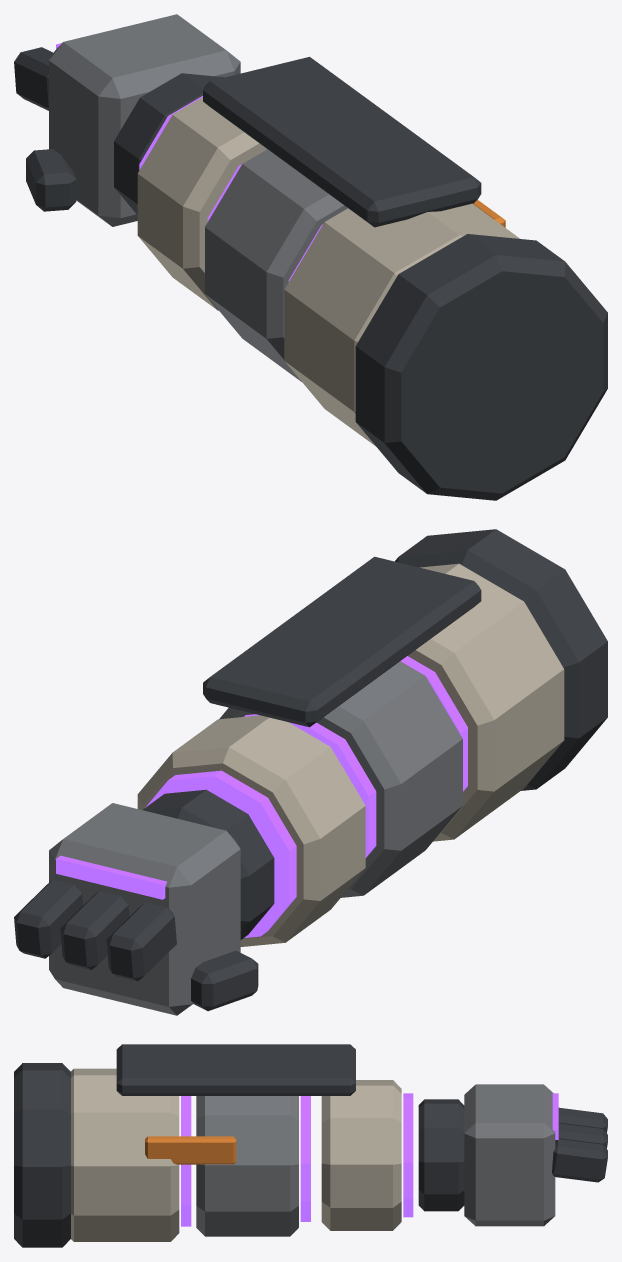
The model's file is TC_PLAYER_MechanicalArm_V1.glb.
The picture shows the model from 3 angles, top to bottom: view 1: azimuth 30°, elevation 25°; view 2: azimuth 150°, elevation 25°; view 3: azimuth 270°, elevation 25°; orthographic projection. The views are drawn at different scales.
Visible parts, largest first — view 1: TC_Arm_Elbow, TC_Arm_TopPlate, TC_Arm_Segment_0, TC_Arm_Palm, TC_Arm_Segment_1, TC_Arm_Segment_2, TC_Arm_Wrist, TC_Arm_Thumb, TC_Arm_Finger_0; view 2: TC_Arm_TopPlate, TC_Arm_Palm, TC_Arm_Segment_0, TC_Arm_Segment_2, TC_Arm_Segment_1, TC_Arm_Elbow, TC_Arm_Wrist, TC_Arm_Seam_2, TC_Arm_Finger_0, TC_Arm_Finger_2, TC_Arm_Finger_1, TC_Arm_Thumb (+3 smaller); view 3: TC_Arm_Segment_0, TC_Arm_Segment_1, TC_Arm_Palm, TC_Arm_TopPlate, TC_Arm_Segment_2, TC_Arm_Elbow, TC_Arm_Wrist, TC_Arm_StripePlate, TC_Arm_Finger_2, TC_Arm_Seam_1, TC_Arm_Seam_2, TC_Arm_Seam_0 (+3 smaller).
Boxes of the visible parts, x1=… form: TC_Arm_Elbow: x1=355, y1=234, x2=607, y2=500; TC_Arm_TopPlate: x1=203, y1=56, x2=481, y2=227; TC_Arm_Segment_0: x1=284, y1=203, x2=519, y2=446; TC_Arm_Palm: x1=49, y1=14, x2=240, y2=226; TC_Arm_Segment_1: x1=205, y1=149, x2=347, y2=381; TC_Arm_Segment_2: x1=137, y1=97, x2=266, y2=310; TC_Arm_Wrist: x1=114, y1=73, x2=223, y2=214; TC_Arm_Thumb: x1=26, y1=149, x2=76, y2=211; TC_Arm_Finger_0: x1=14, y1=47, x2=53, y2=110; TC_Arm_TopPlate: x1=203, y1=556, x2=481, y2=727; TC_Arm_Palm: x1=49, y1=803, x2=240, y2=1015; TC_Arm_Segment_0: x1=408, y1=563, x2=564, y2=841; TC_Arm_Segment_2: x1=137, y1=715, x2=365, y2=946; TC_Arm_Segment_1: x1=219, y1=661, x2=462, y2=897; TC_Arm_Elbow: x1=395, y1=529, x2=607, y2=790; TC_Arm_Wrist: x1=142, y1=789, x2=274, y2=939; TC_Arm_Seam_2: x1=145, y1=770, x2=296, y2=937; TC_Arm_Finger_0: x1=106, y1=902, x2=176, y2=981; TC_Arm_Finger_2: x1=14, y1=879, x2=82, y2=958; TC_Arm_Finger_1: x1=60, y1=891, x2=129, y2=969; TC_Arm_Thumb: x1=191, y1=950, x2=258, y2=1011; TC_Arm_Segment_0: x1=71, y1=1068, x2=179, y2=1241; TC_Arm_Segment_1: x1=196, y1=1096, x2=298, y2=1236; TC_Arm_Palm: x1=464, y1=1084, x2=555, y2=1226; TC_Arm_TopPlate: x1=116, y1=1044, x2=355, y2=1095; TC_Arm_Segment_2: x1=321, y1=1080, x2=401, y2=1230; TC_Arm_Elbow: x1=14, y1=1063, x2=70, y2=1247; TC_Arm_Wrist: x1=418, y1=1099, x2=464, y2=1211; TC_Arm_StripePlate: x1=145, y1=1136, x2=236, y2=1164; TC_Arm_Finger_2: x1=552, y1=1139, x2=607, y2=1182; TC_Arm_Seam_1: x1=300, y1=1096, x2=310, y2=1221; TC_Arm_Seam_2: x1=403, y1=1093, x2=413, y2=1217; TC_Arm_Seam_0: x1=181, y1=1096, x2=191, y2=1226.
Size of the model in its own units: 0.3138 by 0.3475 by 1.04.
